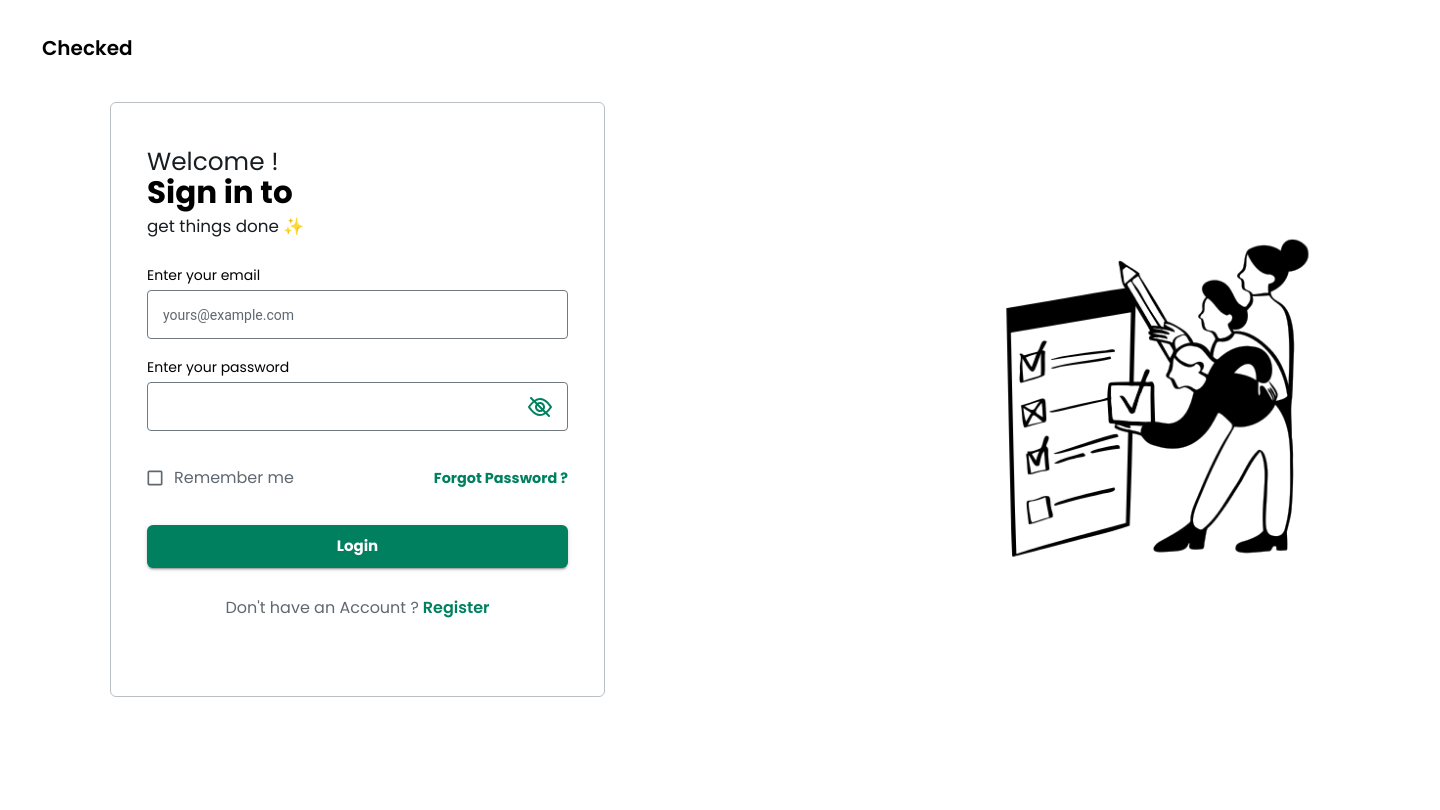
AuthPage › shows the backend invalid credentials message for failed login attempts
In the field labelled "Enter your email": (358, 315) top-left (147, 293), bottom-right (568, 337), type "task.master@example.com"
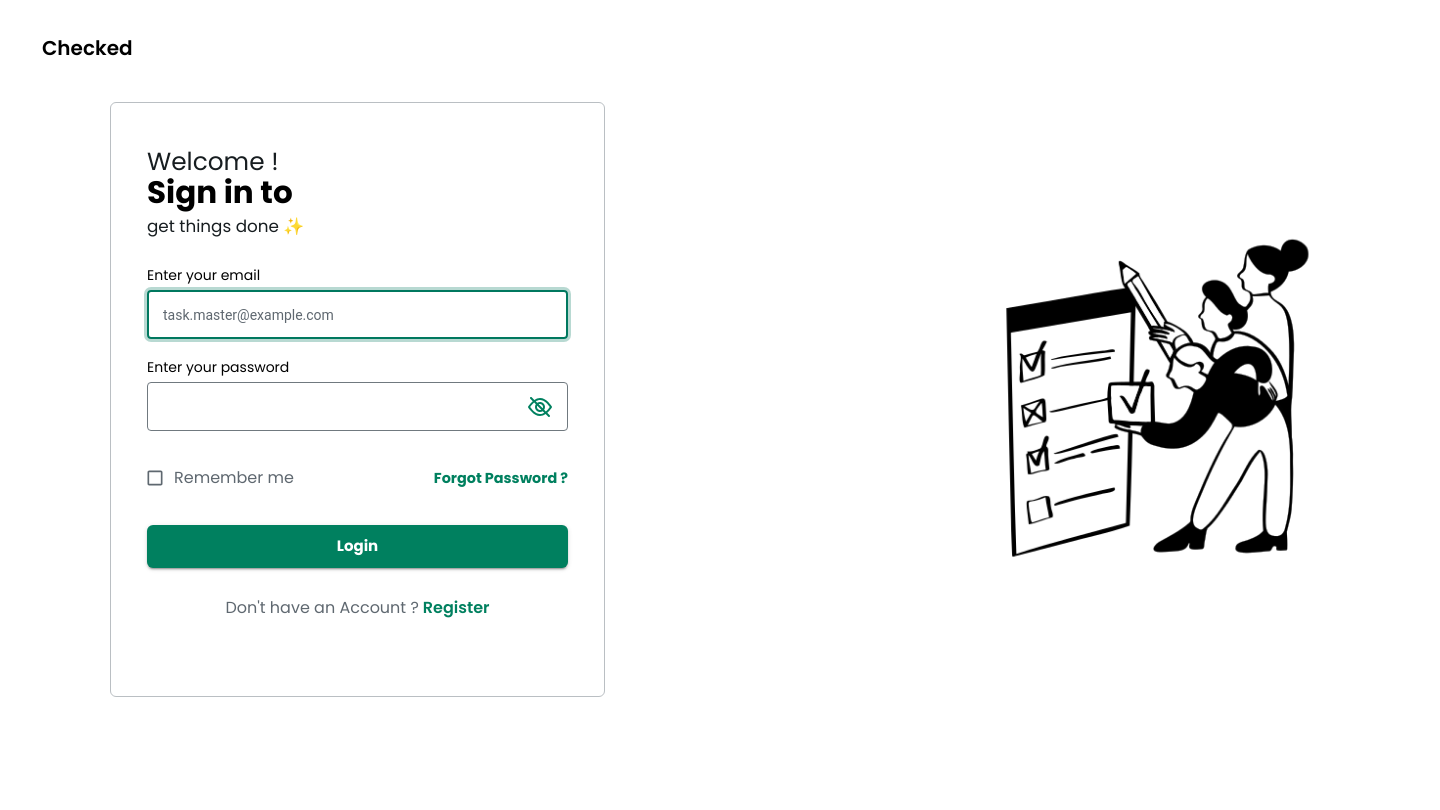
In the password field labelled "Enter your password": (331, 407) top-left (147, 385), bottom-right (515, 429), type "wrong-password"
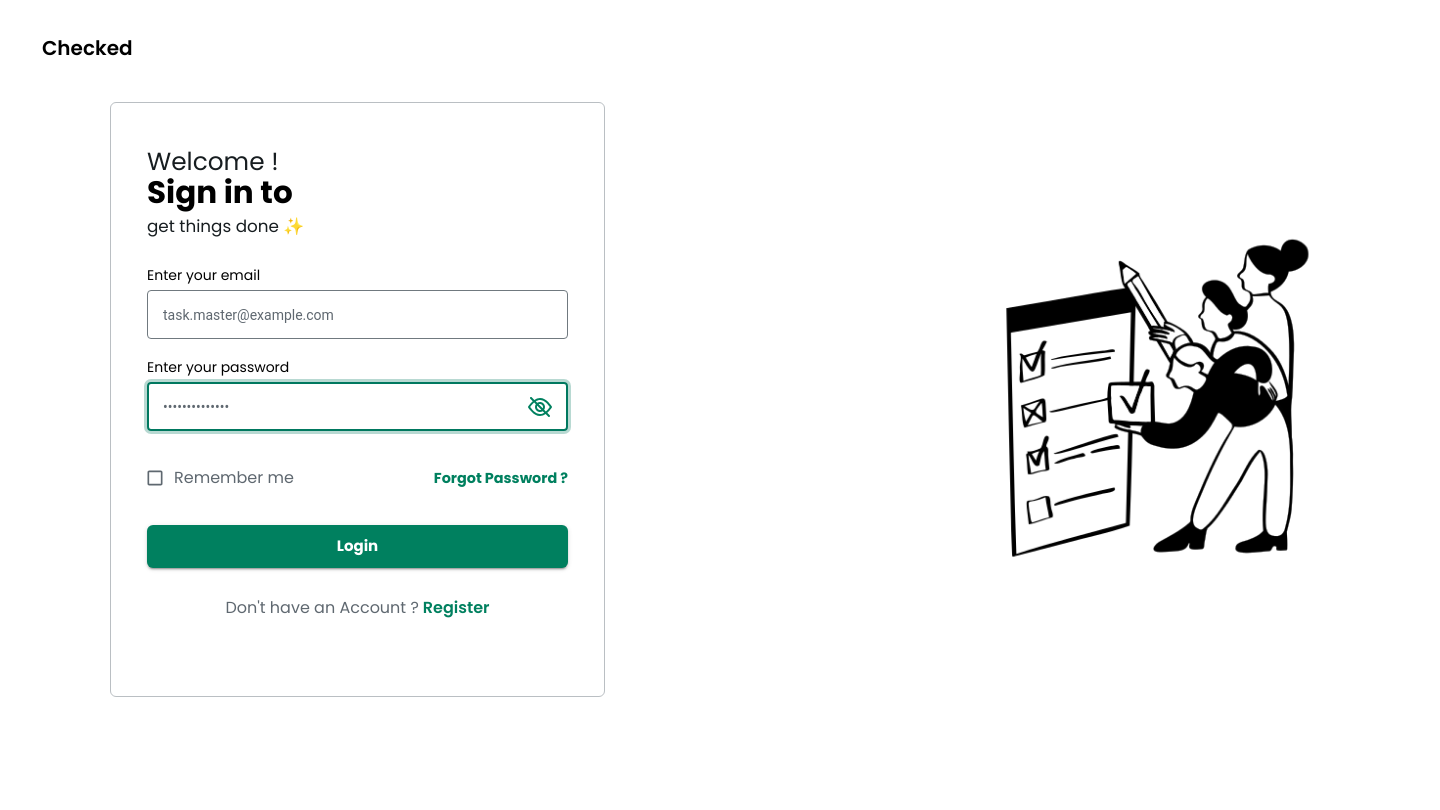
Click the button "Login": (358, 546) top-left (147, 525), bottom-right (568, 568)
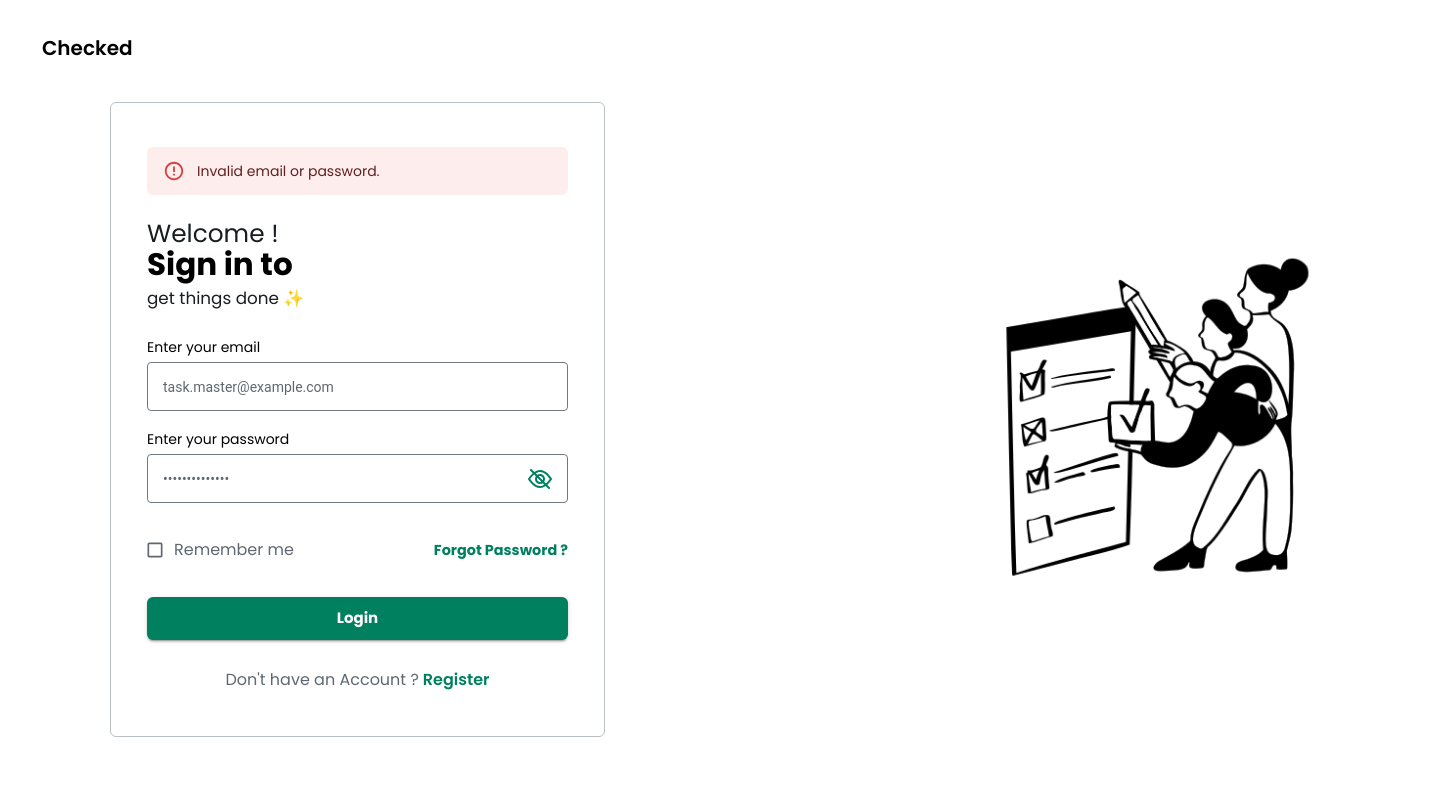
Result: the text "Invalid email or password." is shown at top-left (197, 161), bottom-right (380, 181)
